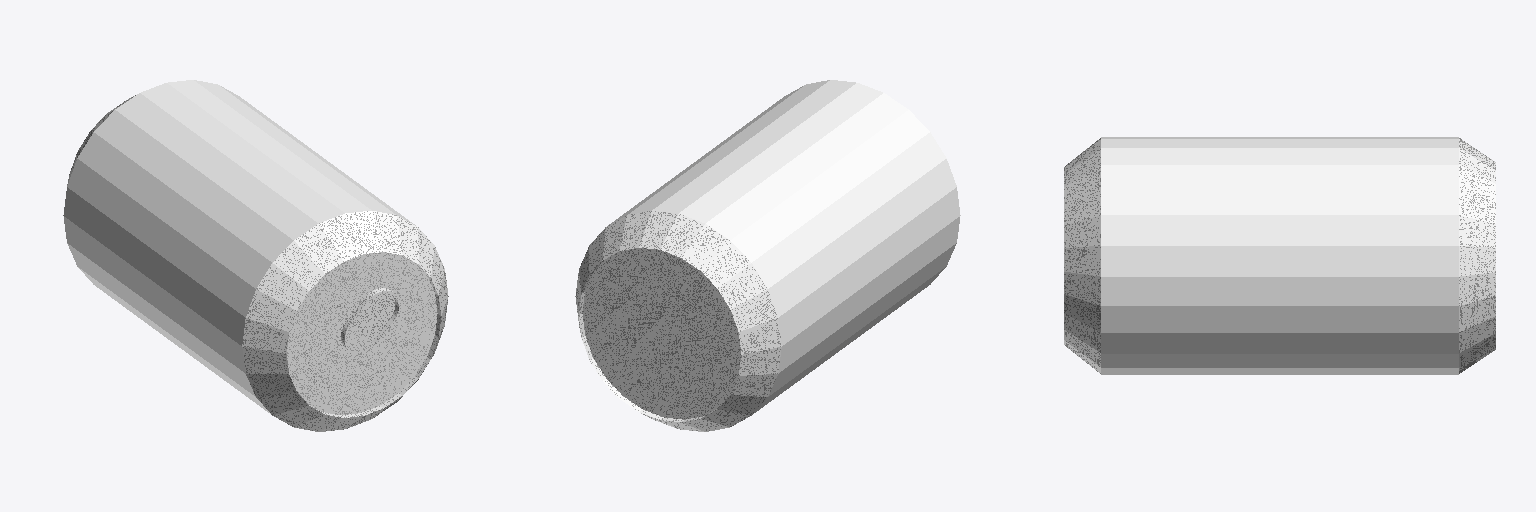
The model's file is model_align.obj.
The picture shows the model from 3 angles: view 1: azimuth 30°, elevation 25°; view 2: azimuth 150°, elevation 25°; view 3: azimuth 270°, elevation 25°; orthographic projection.
Visible parts, largest first — view 1: mesh1_mesh1-geometry; view 2: mesh1_mesh1-geometry; view 3: mesh1_mesh1-geometry.
Part boxes in pixels (x1,y1,x2,y2): mesh1_mesh1-geometry: (63,80,448,431); mesh1_mesh1-geometry: (575,80,960,431); mesh1_mesh1-geometry: (1064,137,1495,374).
Bounding box in the file's own units: 0.0696 × 0.0696 × 0.1262.